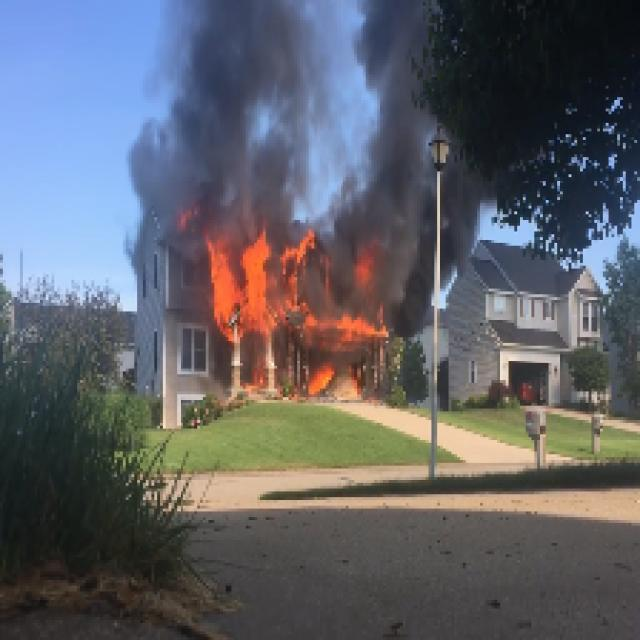Fire: (203, 226, 323, 343)
Smoke: (134, 3, 337, 214), (343, 2, 431, 274)
